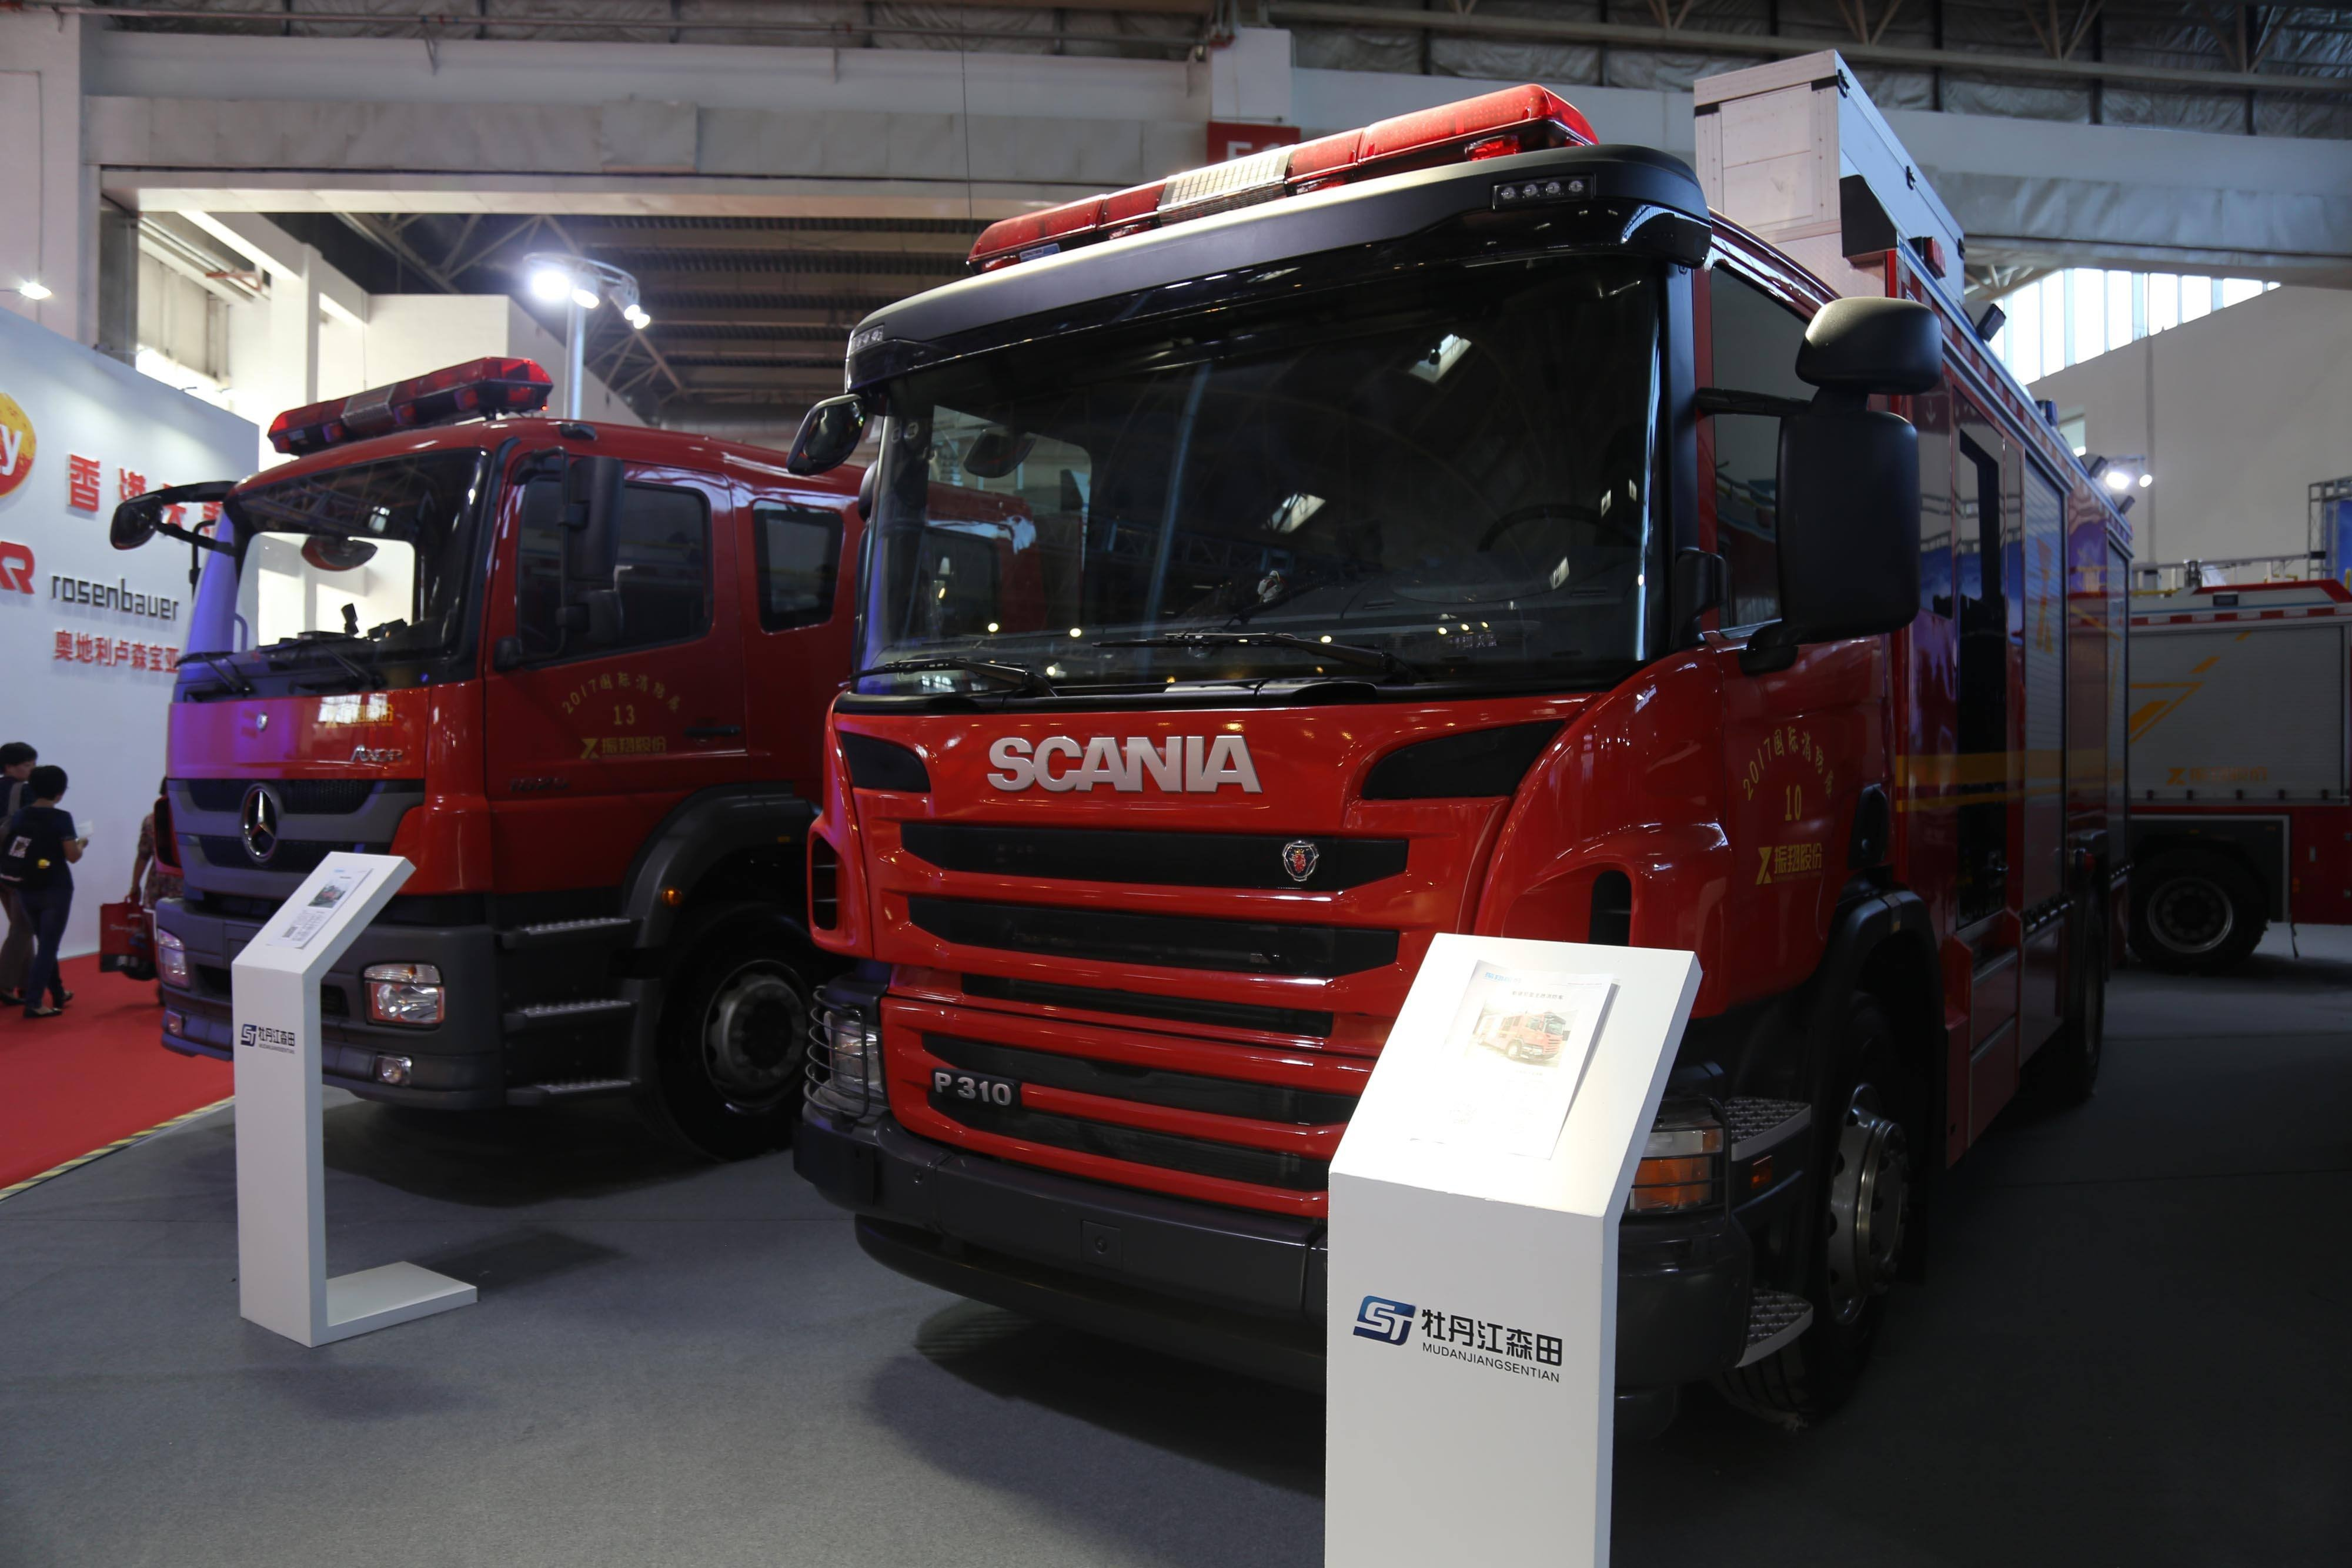fire engine: (815, 114, 2063, 1326), (119, 359, 821, 1148)
